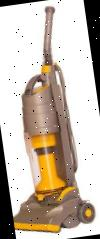electronic: (0, 2, 99, 238)
